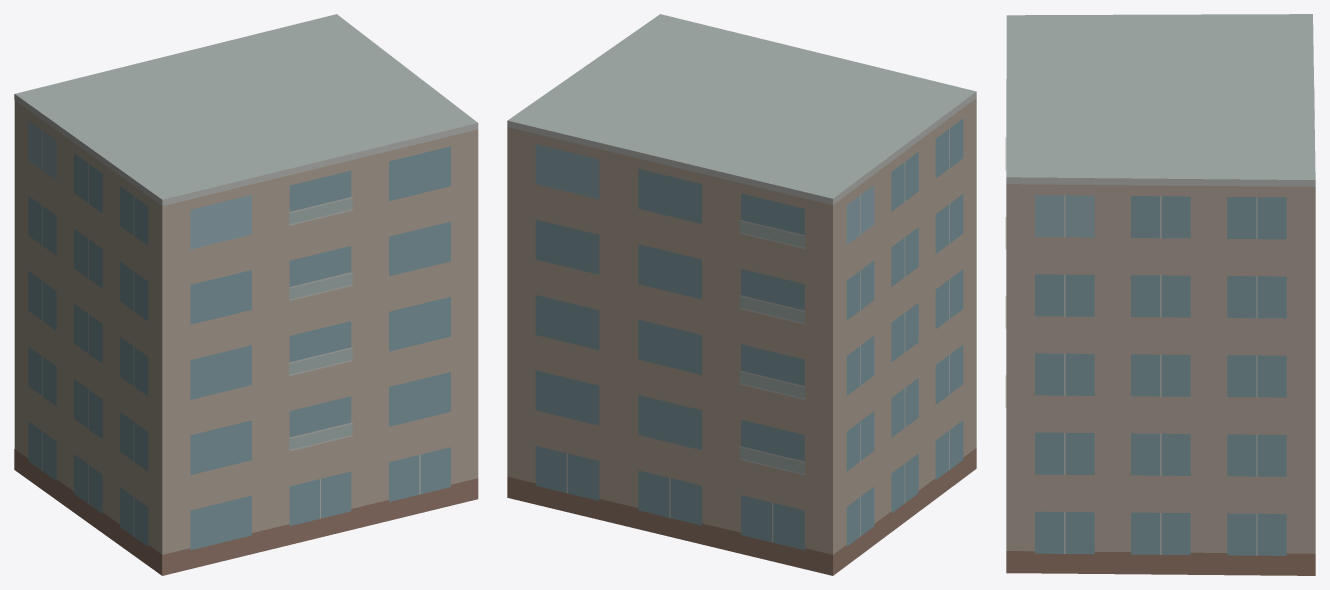
The model's file is survey-upis-32891729.glb.
The picture shows the model from 3 angles, left to right: view 1: azimuth 30°, elevation 25°; view 2: azimuth 150°, elevation 25°; view 3: azimuth 270°, elevation 25°; orthographic projection. The views are drawn at different scales.
Visible parts, largest first — view 1: survey-upis-32891729.tmp; view 2: survey-upis-32891729.tmp; view 3: survey-upis-32891729.tmp.
Part boxes in pixels (x1=…): survey-upis-32891729.tmp: x1=14, y1=14, x2=478, y2=575; survey-upis-32891729.tmp: x1=507, y1=14, x2=976, y2=575; survey-upis-32891729.tmp: x1=1005, y1=14, x2=1315, y2=575.
Size of the model in its own units: 12.97 by 14.4 by 10.24.
